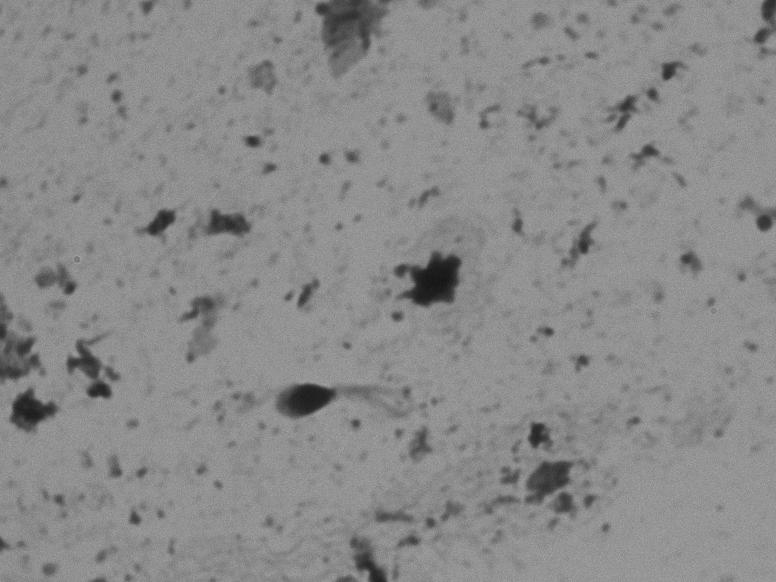Abnormal: (266, 350, 442, 451)
